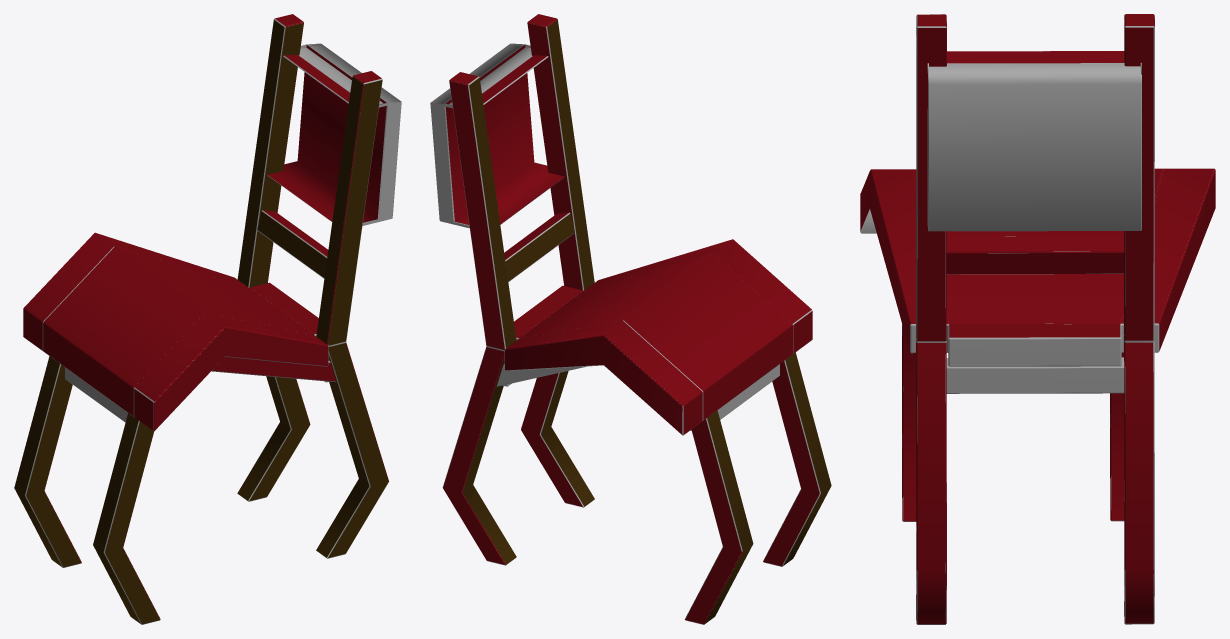
Rendered from Chair02.fbx.
3 renders of one model, left to right at view 1: azimuth 30°, elevation 25°; view 2: azimuth 150°, elevation 25°; view 3: azimuth 270°, elevation 25°, orthographic. The views are drawn at different scales.
Visible parts, largest first — view 1: pCube17; view 2: pCube17; view 3: pCube17.
Part boxes in pixels (left/top/right/bottom): pCube17: left=14, top=14, right=401, bottom=624; pCube17: left=430, top=14, right=831, bottom=624; pCube17: left=860, top=14, right=1215, bottom=624.
Bounding box in the file's own units: 0.1564 × 0.2336 × 0.1169.
